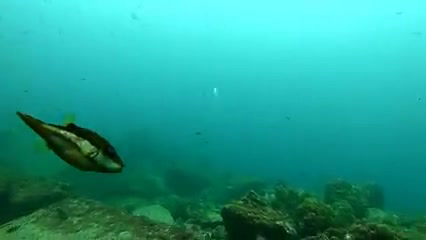hugu: (8, 102, 126, 178)
